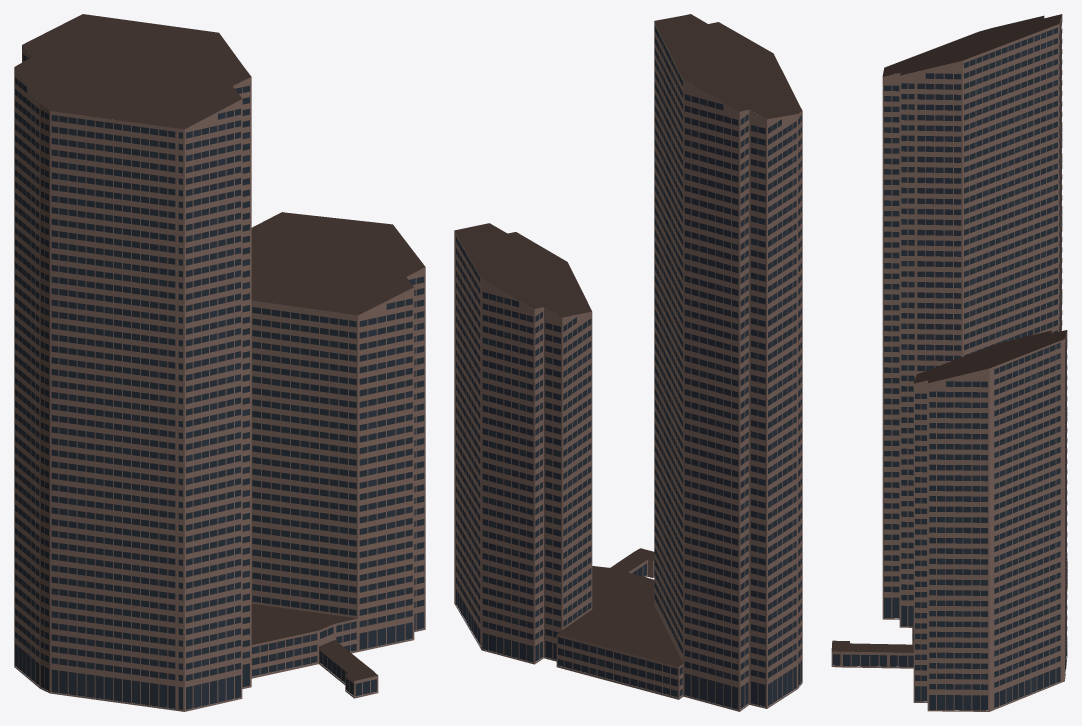
Rendered from suncor-energy-centre-near.glb.
The picture shows the model from 3 angles, left to right: view 1: azimuth 30°, elevation 25°; view 2: azimuth 150°, elevation 25°; view 3: azimuth 270°, elevation 25°; orthographic projection. The views are drawn at different scales.
Visible parts, largest first — view 1: suncor-energy-centre-0-granite, suncor-energy-centre-0-glass, suncor-energy-centre-0-roof, suncor-energy-centre-0-glow; view 2: suncor-energy-centre-0-granite, suncor-energy-centre-0-glass, suncor-energy-centre-0-roof, suncor-energy-centre-0-glow; view 3: suncor-energy-centre-0-granite, suncor-energy-centre-0-glass, suncor-energy-centre-0-glow, suncor-energy-centre-0-roof.
Boxes of the visible parts, x1,y1,x2,y2 form: suncor-energy-centre-0-granite: [14, 45, 425, 711]; suncor-energy-centre-0-glass: [15, 54, 424, 709]; suncor-energy-centre-0-roof: [14, 14, 425, 680]; suncor-energy-centre-0-glow: [15, 54, 424, 707]; suncor-energy-centre-0-granite: [454, 22, 802, 711]; suncor-energy-centre-0-glass: [456, 25, 801, 709]; suncor-energy-centre-0-roof: [454, 14, 802, 666]; suncor-energy-centre-0-glow: [456, 52, 801, 709]; suncor-energy-centre-0-granite: [831, 14, 1067, 711]; suncor-energy-centre-0-glass: [834, 24, 1066, 710]; suncor-energy-centre-0-glow: [833, 21, 1067, 709]; suncor-energy-centre-0-roof: [831, 14, 1066, 652].
Size of the model in its own units: 126 by 215 by 81.
